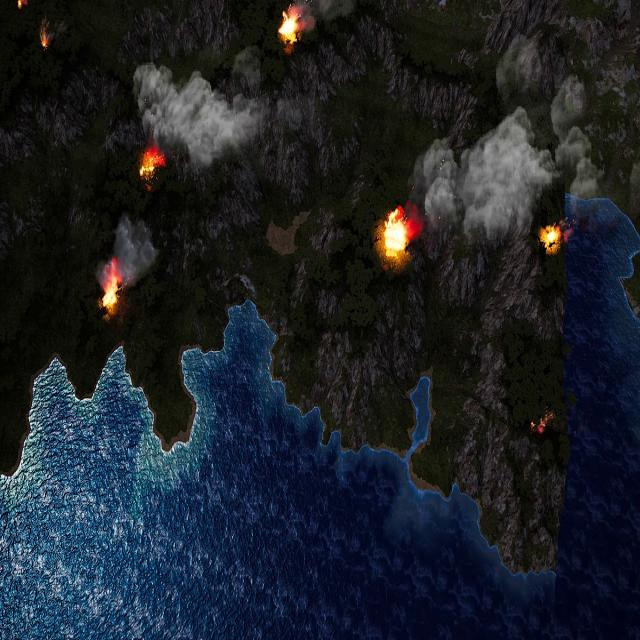fire: (383, 208, 409, 258), (101, 261, 122, 311), (139, 147, 165, 181), (279, 9, 300, 43), (540, 226, 560, 249), (530, 414, 553, 434), (40, 22, 49, 48), (16, 0, 28, 9)
smoke: (412, 32, 606, 239), (134, 51, 270, 171), (98, 212, 160, 282), (290, 0, 356, 36)
